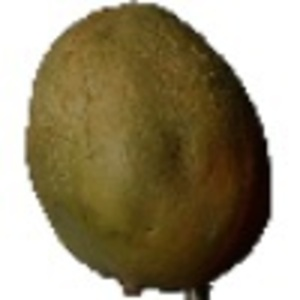mamão: (17, 3, 285, 287)
